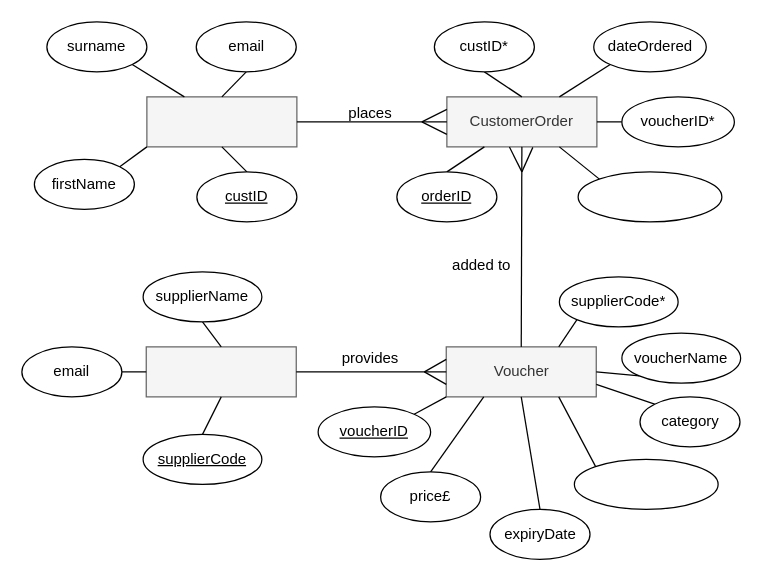
This 763x581 diagram has some shape labels left out. Here are the shapes that lost their labels. From the top down, the box of each, then its label:
(146, 96, 297, 147): Customer
(577, 171, 722, 222): quantityPurchased
(145, 346, 296, 397): Supplier
(573, 458, 718, 509): quantityAvailable
